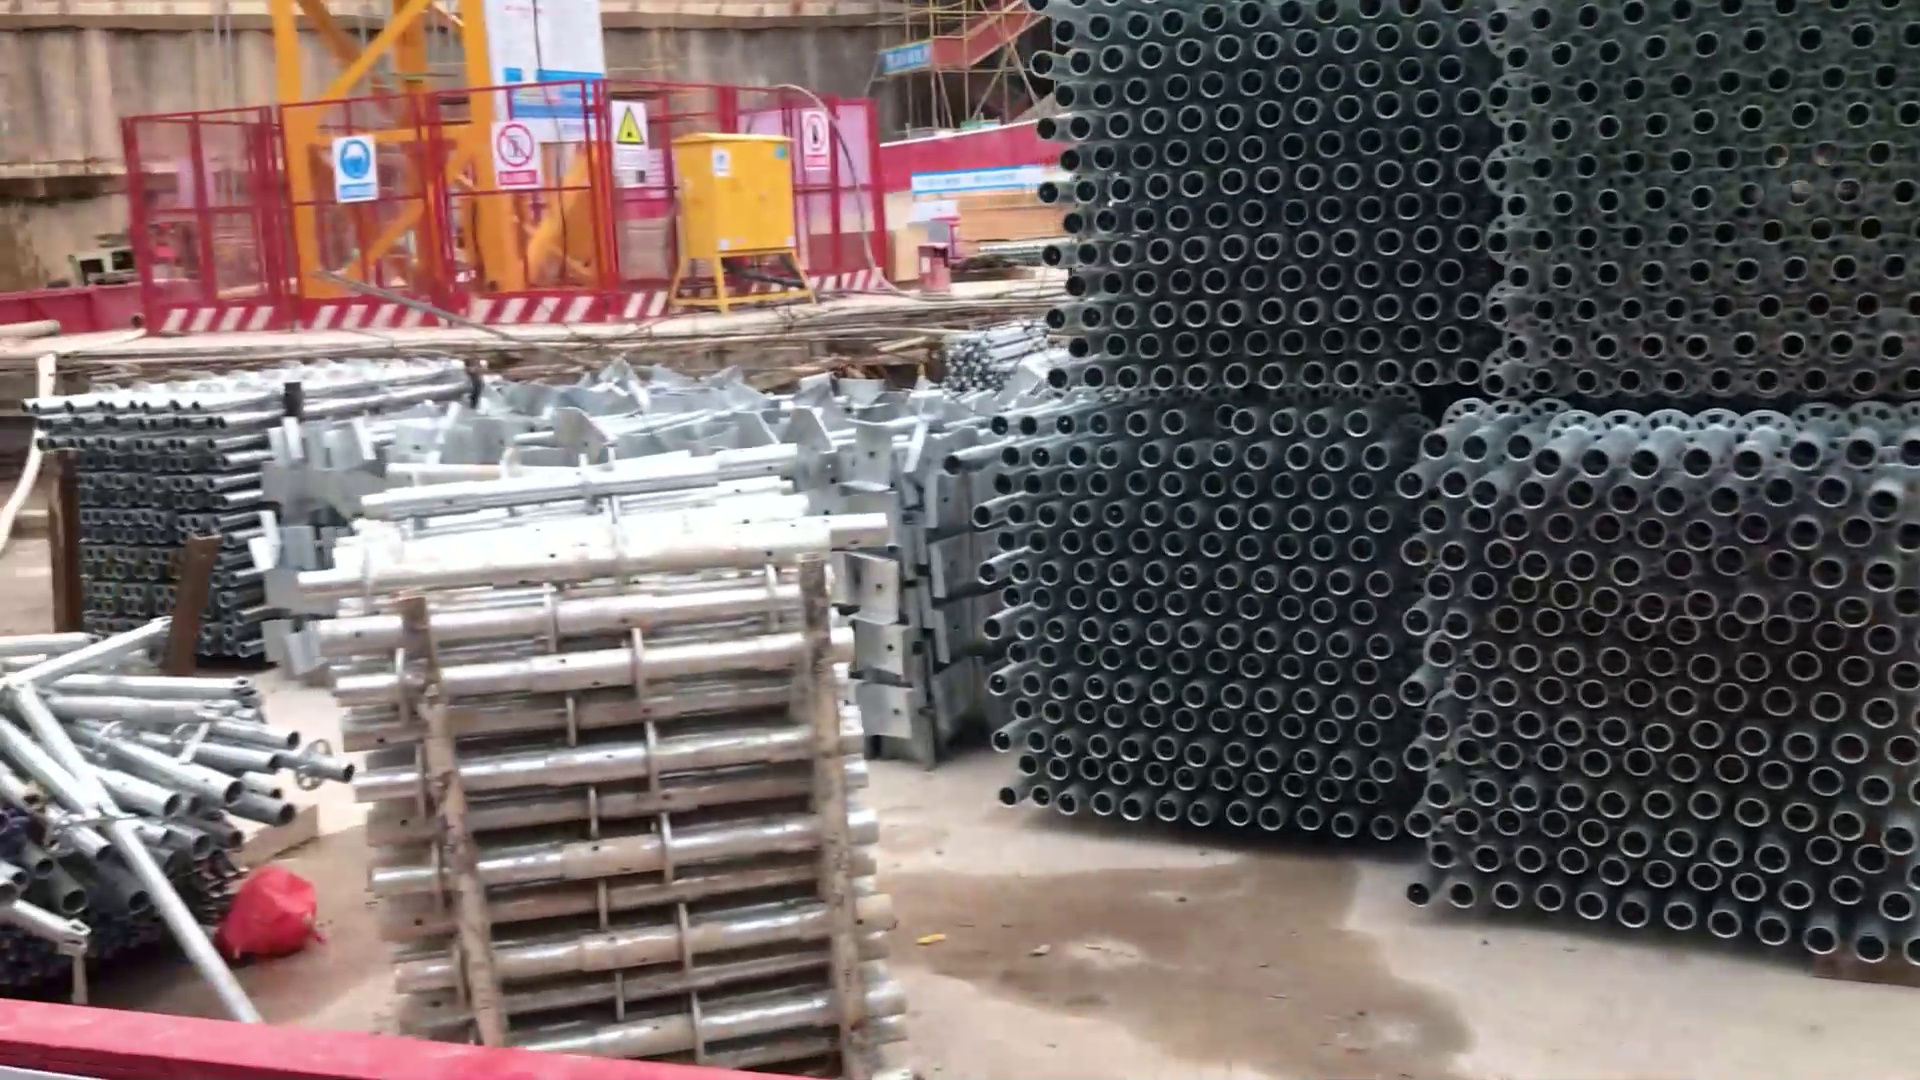ebox: (673, 125, 814, 313)
fence: (108, 87, 653, 335)
scaffold: (934, 1, 1920, 971), (348, 455, 944, 1080), (1, 665, 320, 994), (44, 344, 378, 651)
slogan: (485, 112, 554, 202), (322, 131, 388, 207), (611, 94, 666, 160), (800, 105, 845, 175), (880, 33, 934, 79)
wood: (949, 182, 1038, 260)
